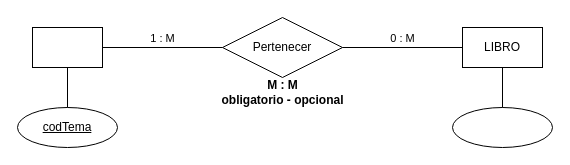
Some shapes in this 570 by 165 pixel diagram are drawn without their labels. The shapes that lost their labels are listed below. From the top down, each one's centre as x and y in pixels, then its label:
point 67,47: TEMA
point 502,127: codLibro
